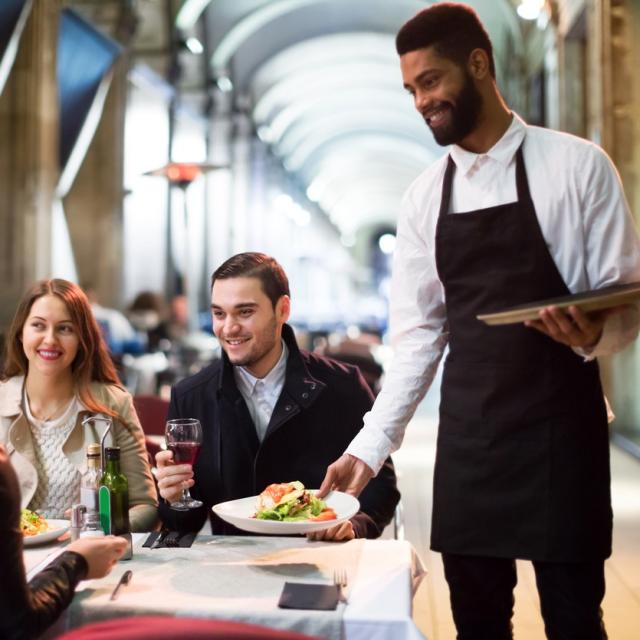person: (378, 23, 640, 640), (168, 254, 404, 551), (8, 281, 164, 537)
